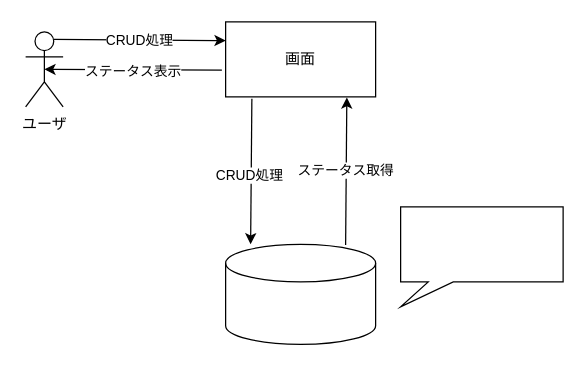
Some shapes in this 585 by 366 pixel diagram are drawn without their labels. Here are the shapes that lost their labels. From the top down, the centre of each, then its label:
(x=481, y=256): なんの記録をする？ =ユースケースは何？ →読書管理アプリ
(x=300, y=293): 記録管理DB
